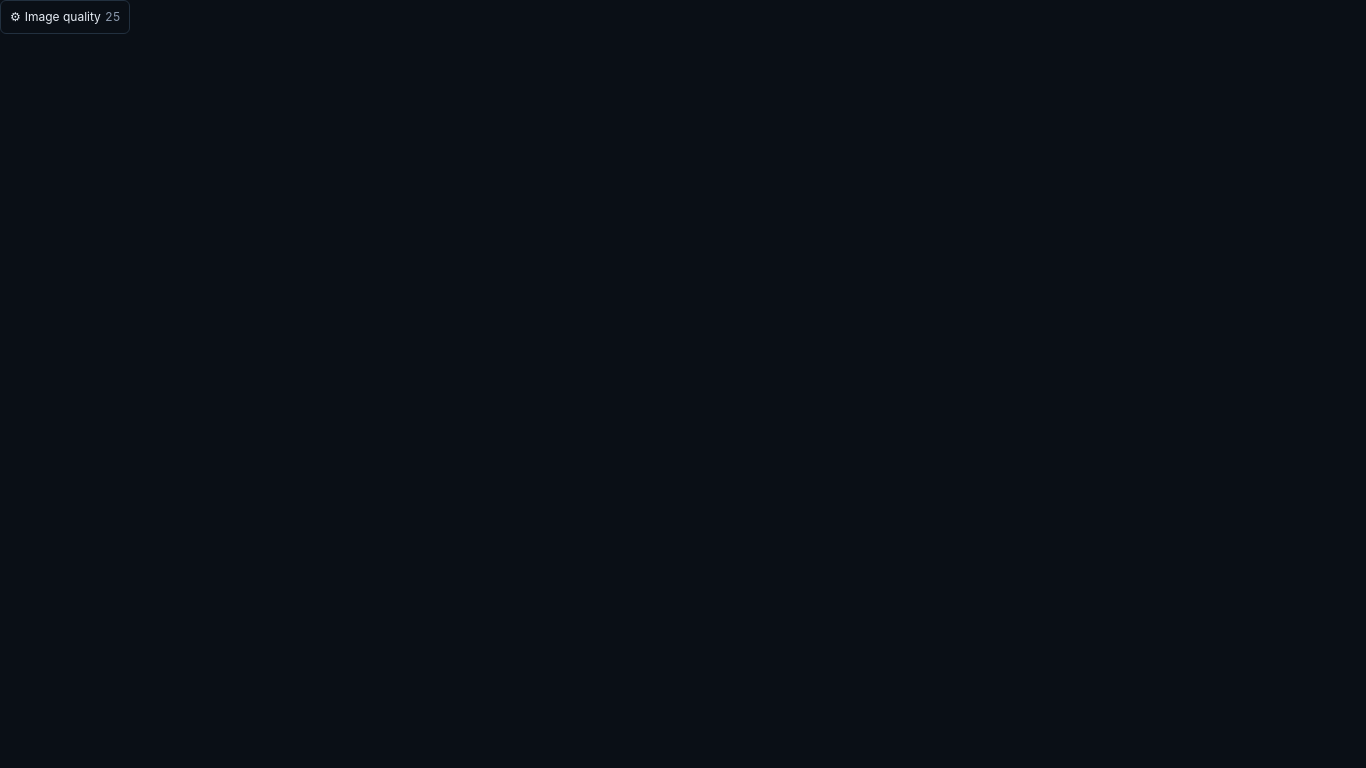
QualityControl › restores the stored settings without forcing a resize and shows the live resolution
Click the button "⚙ Image quality 25" at (65, 17), box [0,0,130,34]
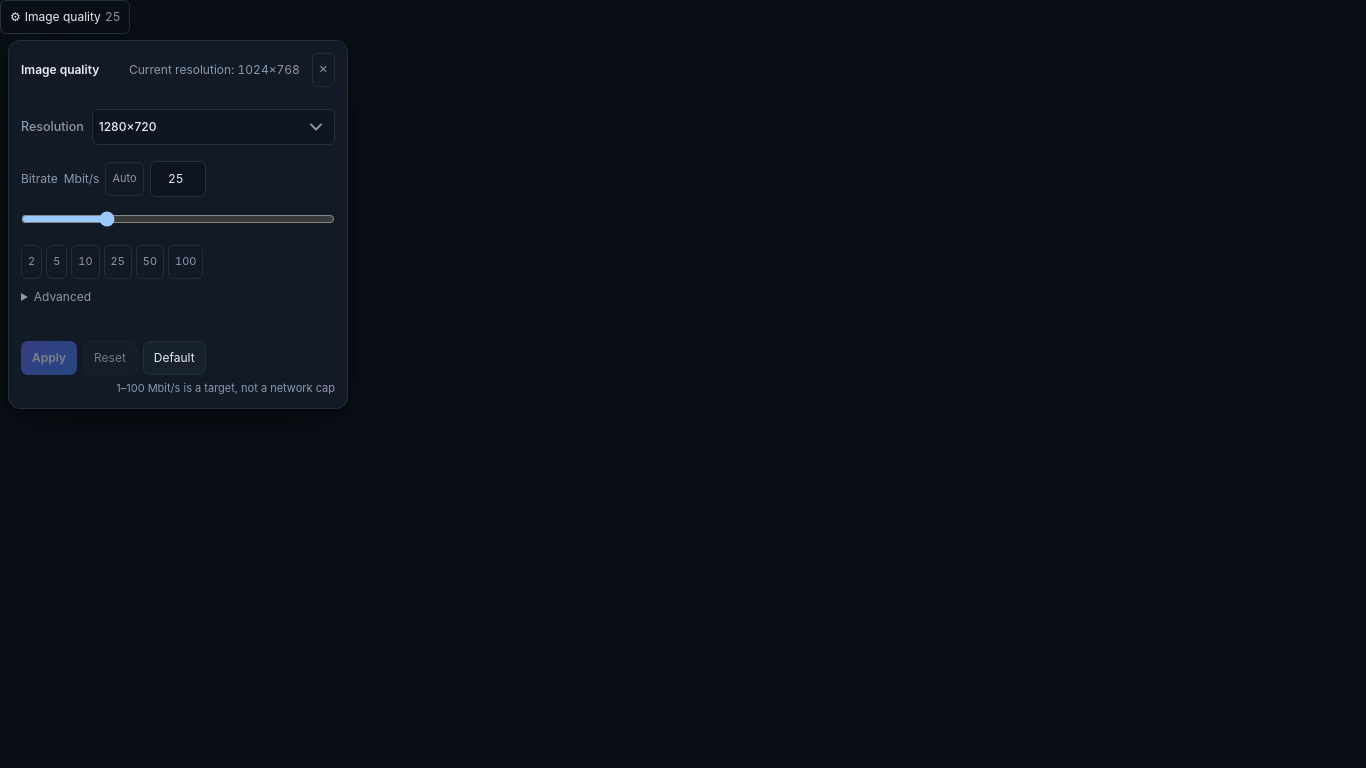
Expected: the text "Current resolution: 1024×768" is shown, [129,62,300,78]
Expected: the dropdown labelled "Resolution" shows "1280×720", [92,109,335,145]
